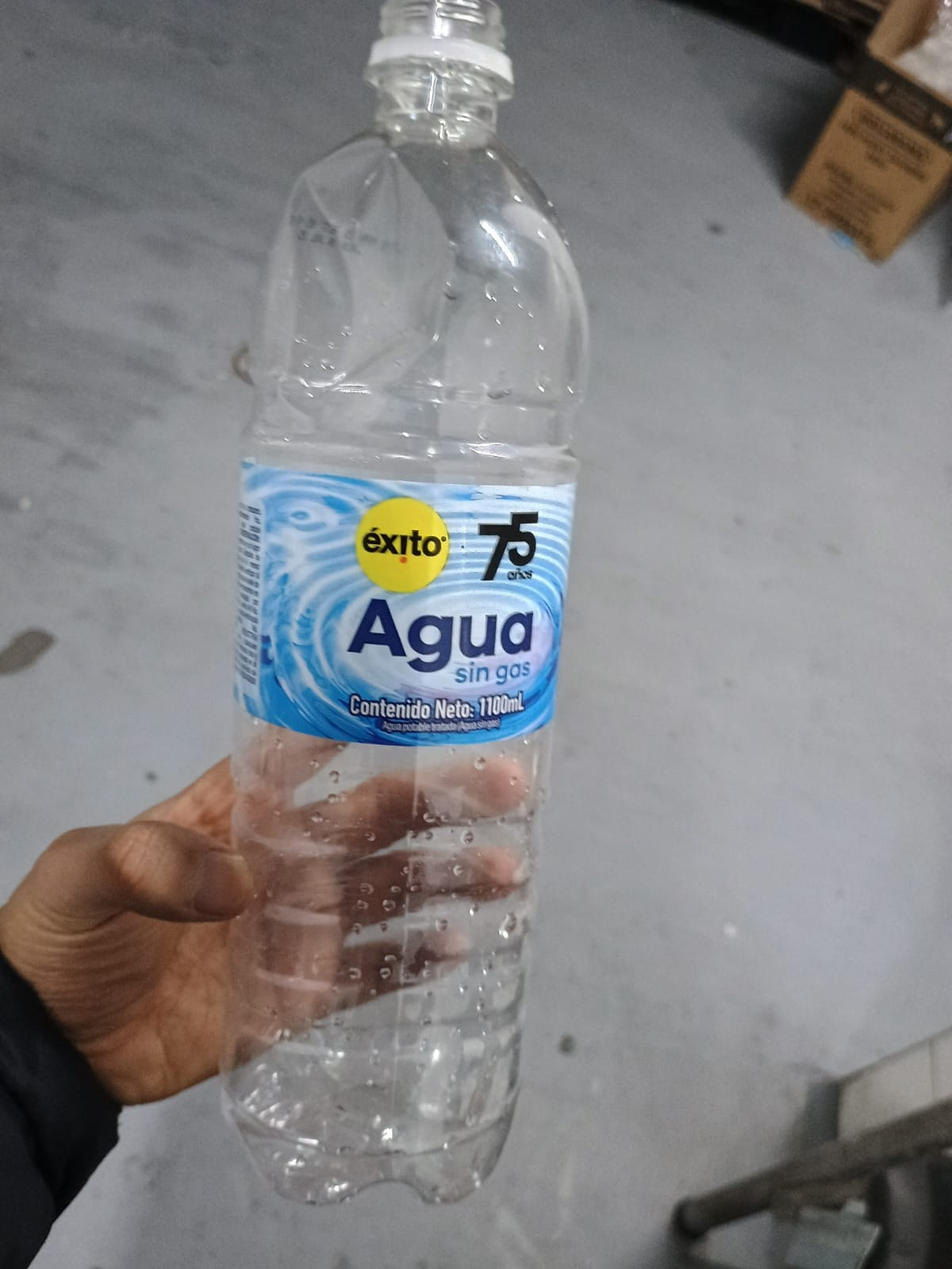Plastico: (228, 2, 588, 1211)
